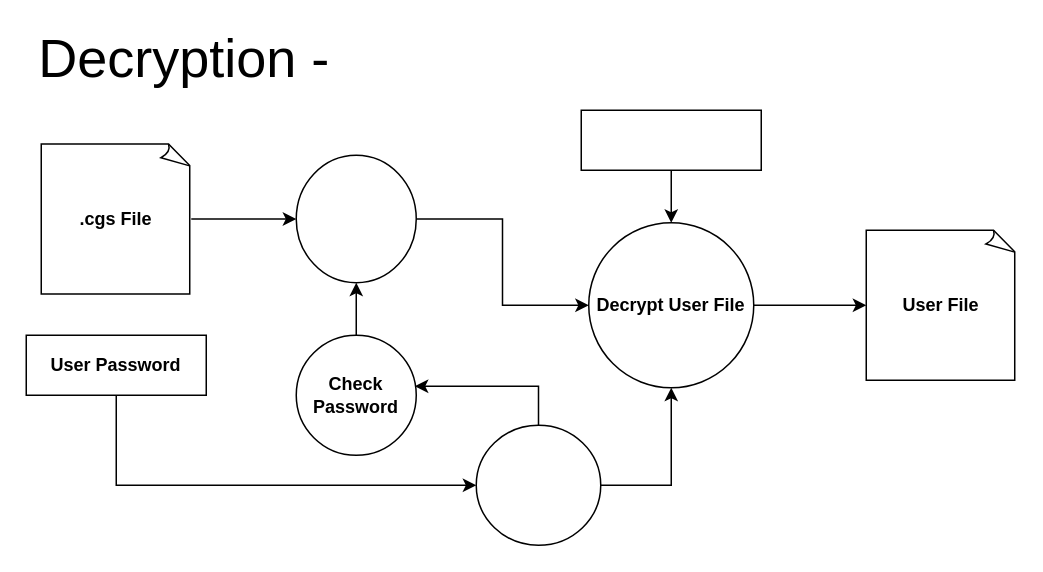
This 1043x572 diagram has some shape labels left out. Each missing label, with the centre of its shape:
"Private Key" belongs at point (670, 139).
"Process .cgs File" belongs at point (355, 218).
"Process Password" belongs at point (538, 484).
